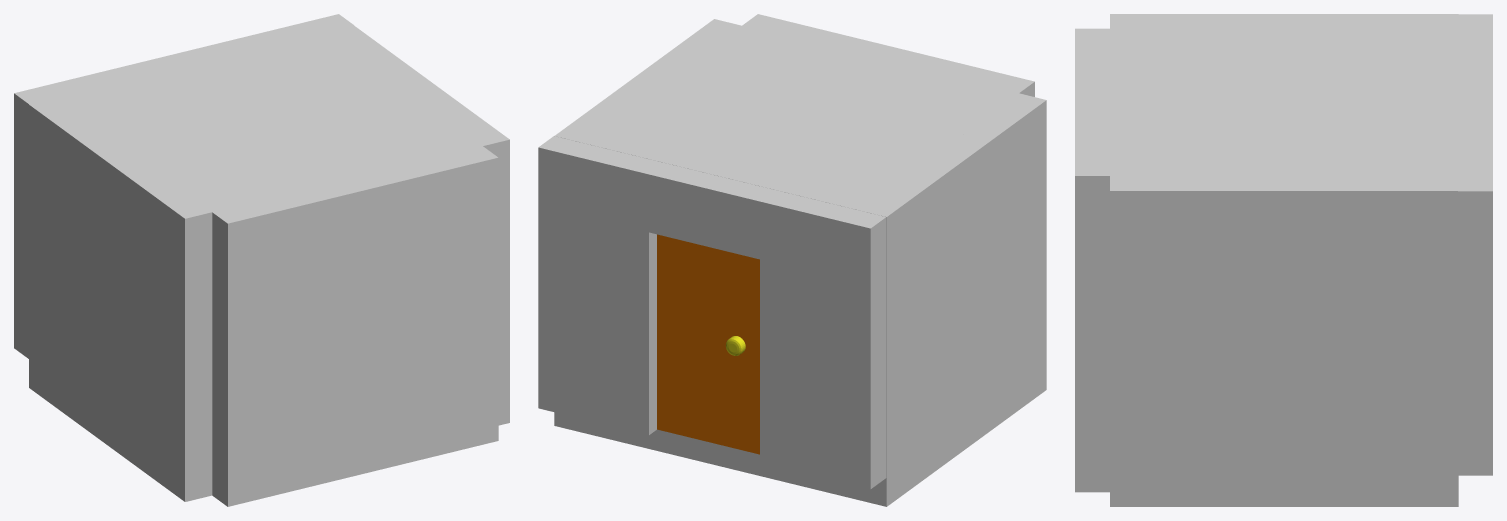
The model's file is Bathroom.glb.
The picture shows the model from 3 angles, left to right: view 1: azimuth 30°, elevation 25°; view 2: azimuth 150°, elevation 25°; view 3: azimuth 270°, elevation 25°; orthographic projection. The views are drawn at different scales.
Visible parts, largest first — view 1: Cube.004, Cube.003, Cube.001, Cube.005, Cube.002; view 2: Cube.005, Cube.003, Cube.001, Door, Cube.002, Cube, Cube.004; view 3: Cube.002, Cube.001, Cube.004, Cube.005, Cube.003.
Part boxes in pixels (<box>): Cube.004: <box>212,146,498,506</box>; Cube.003: <box>29,98,212,501</box>; Cube.001: <box>56,32,482,212</box>; Cube.005: <box>14,14,353,358</box>; Cube.002: <box>327,25,509,425</box>; Cube.005: <box>538,136,886,489</box>; Cube.003: <box>859,93,1046,506</box>; Cube.001: <box>582,25,1018,210</box>; Door: <box>657,234,759,454</box>; Cube.002: <box>554,19,741,432</box>; Cube: <box>582,419,858,499</box>; Cube.004: <box>742,14,1034,96</box>; Cube.002: <box>1110,176,1458,506</box>; Cube.001: <box>1110,28,1458,175</box>; Cube.004: <box>1075,28,1109,492</box>; Cube.005: <box>1458,14,1492,475</box>; Cube.003: <box>1110,14,1458,28</box>.
Size of the model in its own units: 12.02 by 10 by 11.98.
